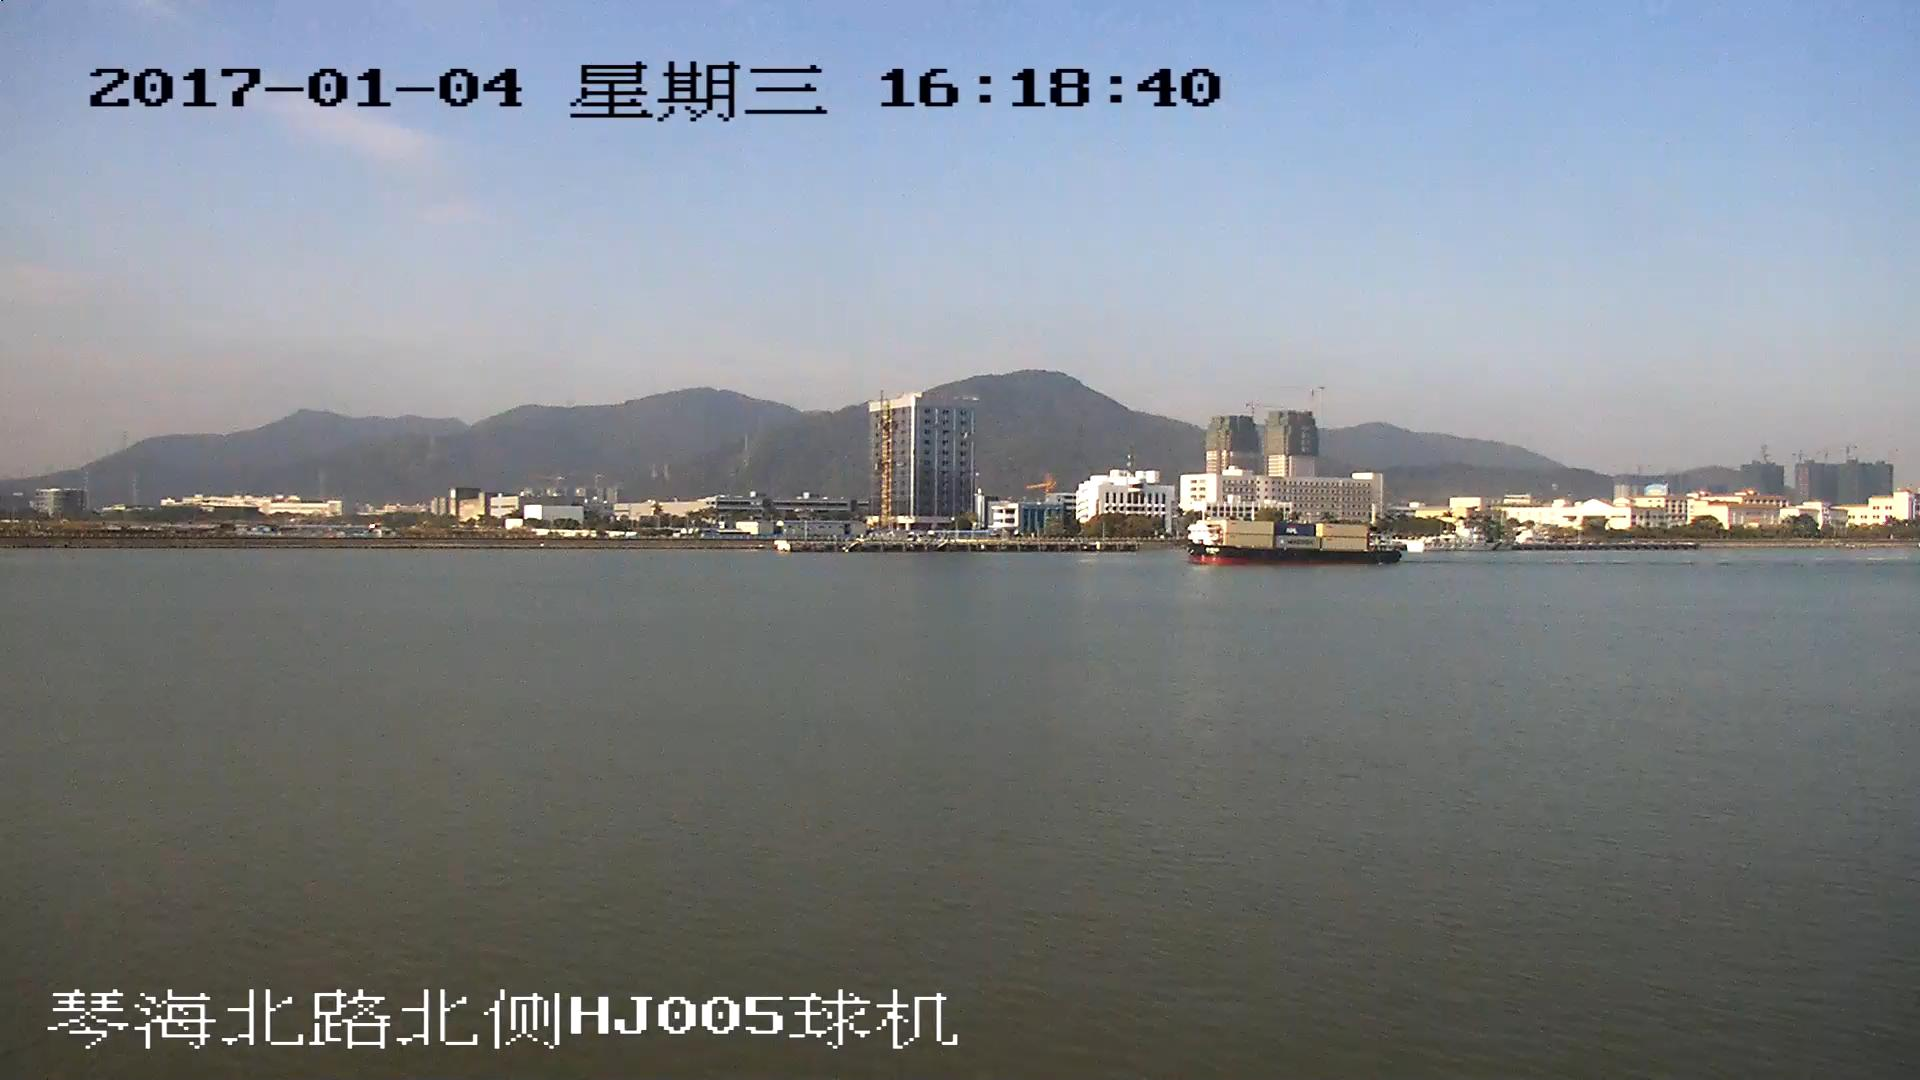container ship: (1191, 515, 1402, 565)
